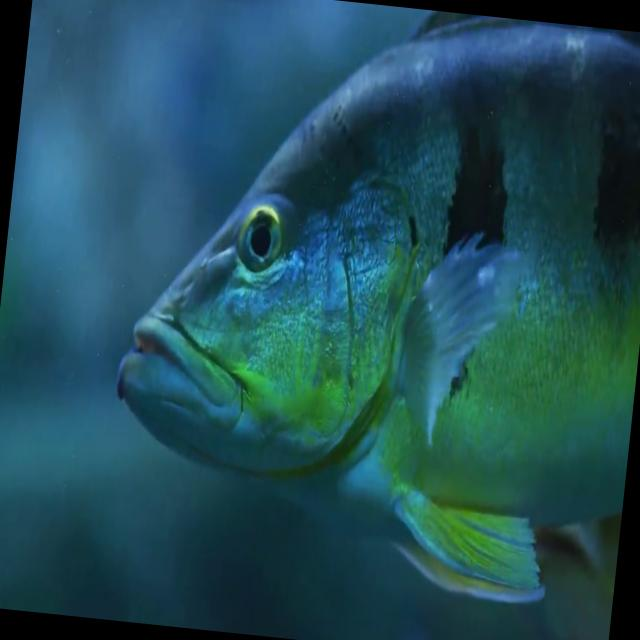fish: (99, 0, 640, 614)
